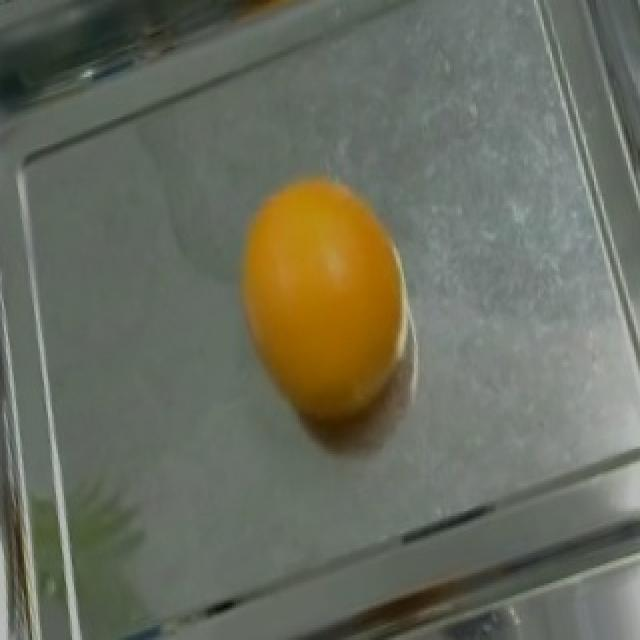Fruit: (226, 151, 440, 449)
